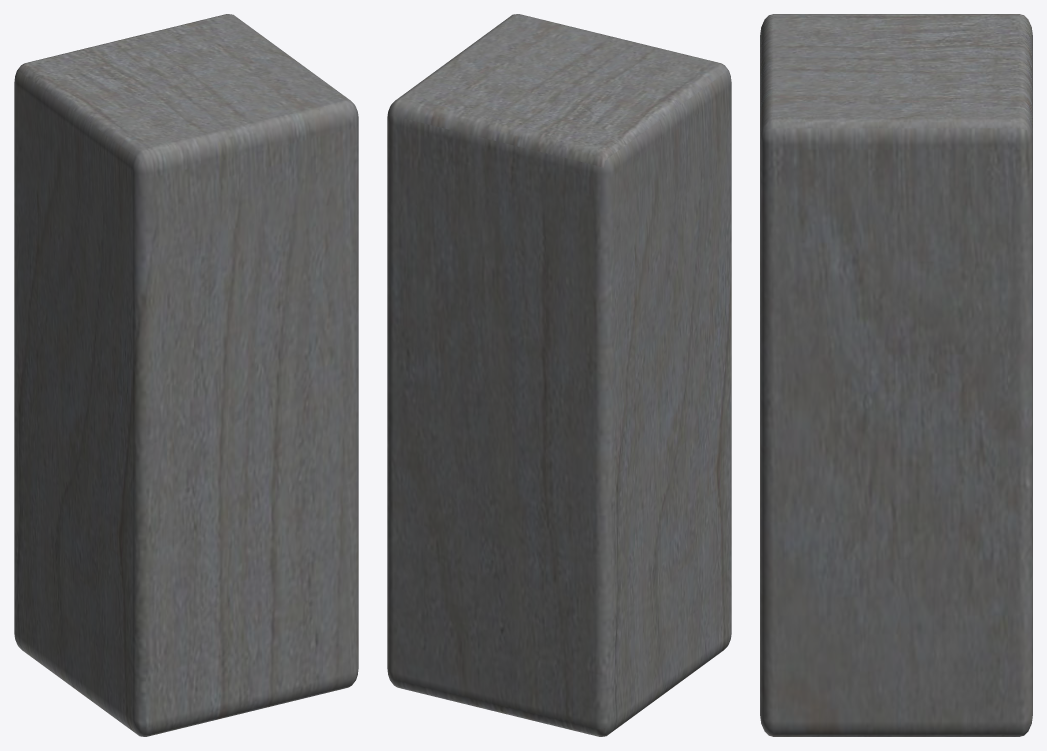
The model's file is BigGateWall.obj.
3 renders of one model, left to right at view 1: azimuth 30°, elevation 25°; view 2: azimuth 150°, elevation 25°; view 3: azimuth 270°, elevation 25°, orthographic. The views are drawn at different scales.
Parts seen in each view (by area): view 1: BigGateWall; view 2: BigGateWall; view 3: BigGateWall.
Part boxes in pixels (<box>): BigGateWall: <box>14,14,358,736</box>; BigGateWall: <box>387,14,731,736</box>; BigGateWall: <box>760,14,1032,736</box>.
Size of the model in its own units: 200 by 500 by 200.
Materials: 1 (1 with a texture image).
